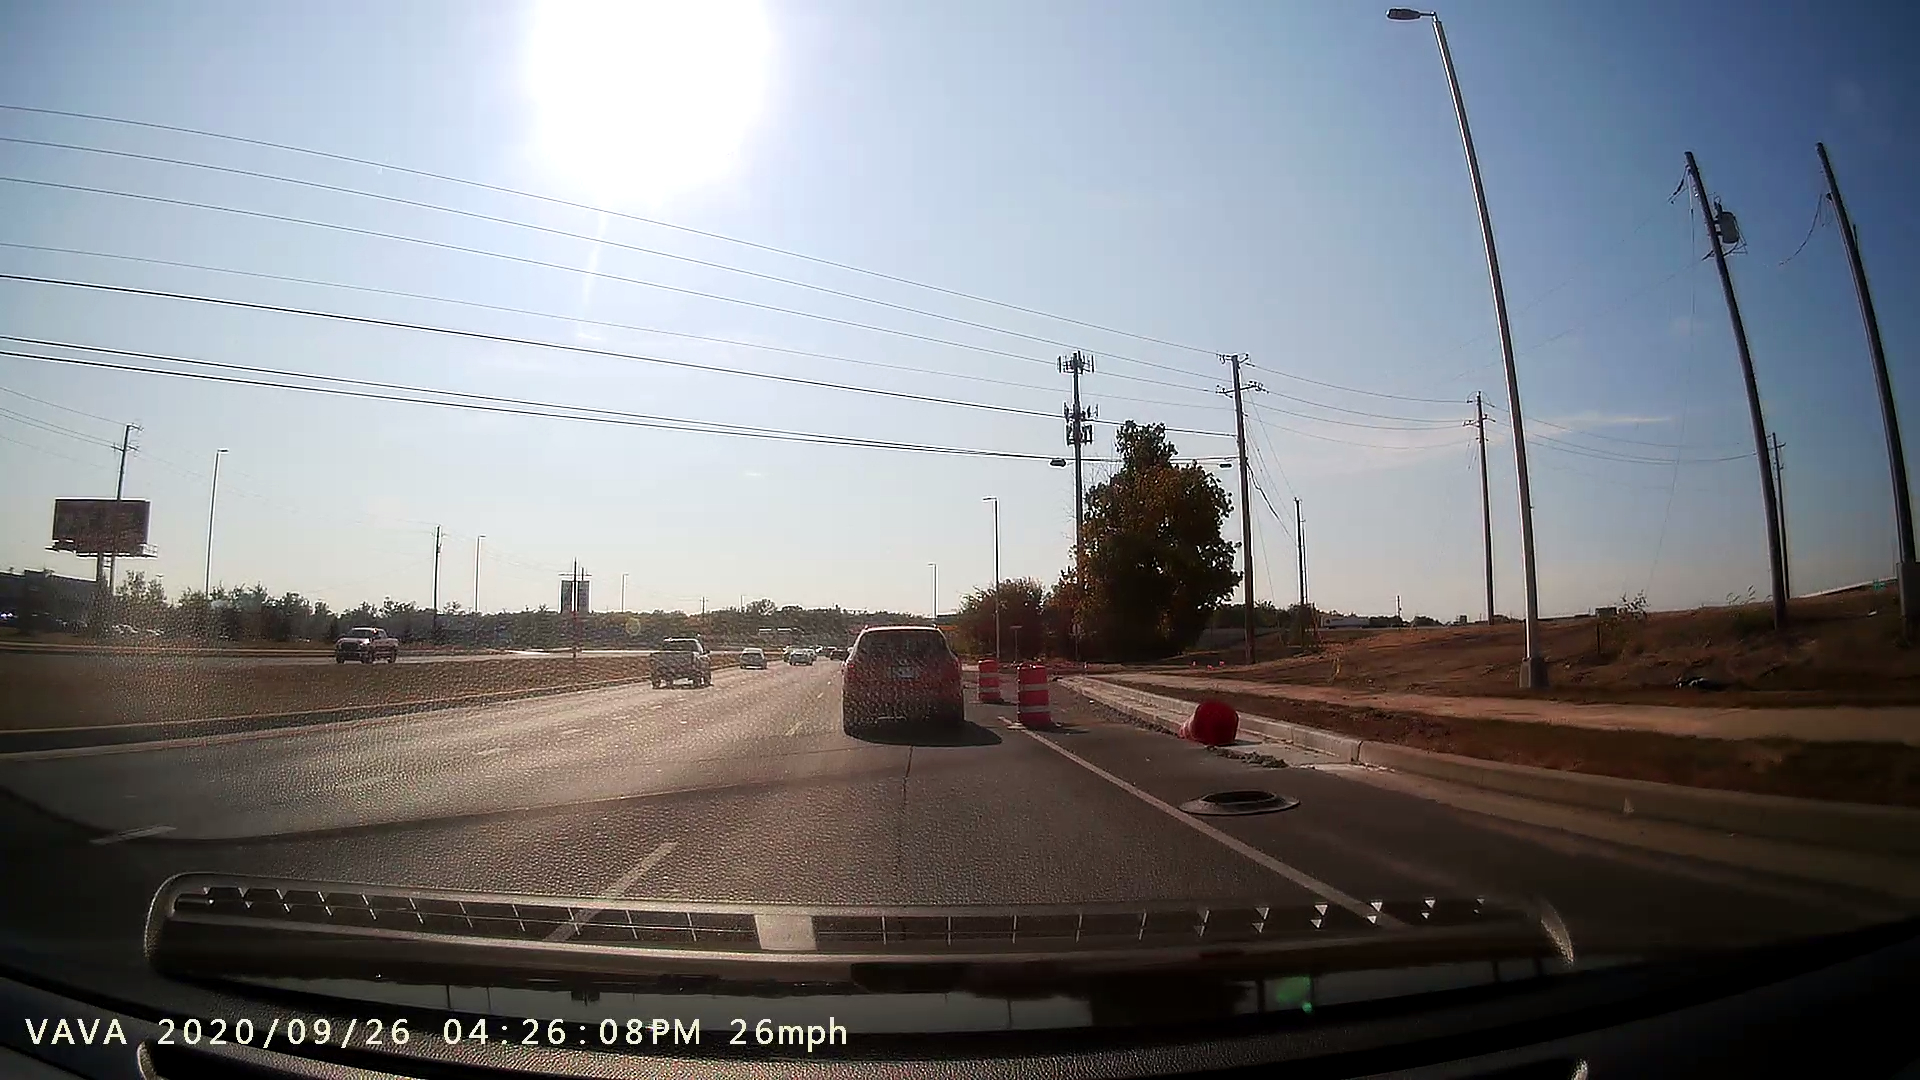const_barrel: (1005, 654, 1063, 746)
